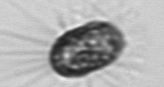plankton: (46, 18, 132, 81)
